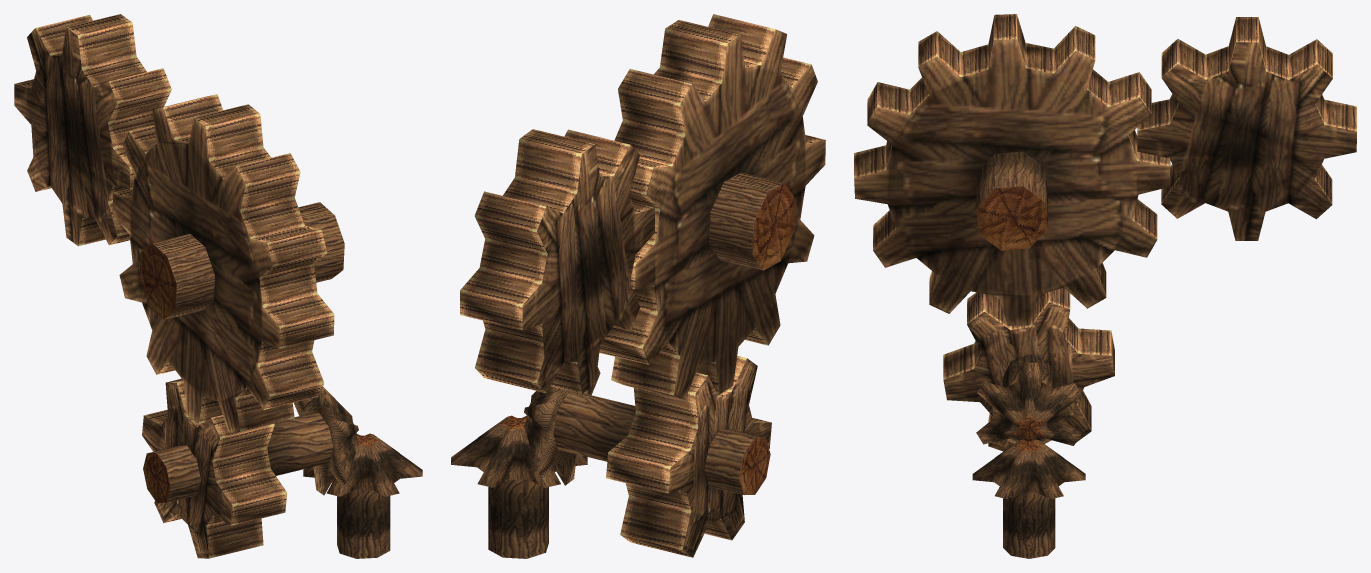
The model's file is INST_SWORDLIGHT_GEARSB.fbx.
The picture shows the model from 3 angles, left to right: view 1: azimuth 30°, elevation 25°; view 2: azimuth 150°, elevation 25°; view 3: azimuth 270°, elevation 25°; orthographic projection. The views are drawn at different scales.
Parts seen in each view (by area): view 1: INST_SWORDLIGHT_GEARSB; view 2: INST_SWORDLIGHT_GEARSB; view 3: INST_SWORDLIGHT_GEARSB.
Part boxes in pixels (x1=…): INST_SWORDLIGHT_GEARSB: x1=14, y1=14, x2=422, y2=558; INST_SWORDLIGHT_GEARSB: x1=451, y1=14, x2=825, y2=558; INST_SWORDLIGHT_GEARSB: x1=854, y1=14, x2=1356, y2=558.
Size of the model in its own units: 19181 by 33397 by 33633.
Materials: 4 (4 with a texture image).
